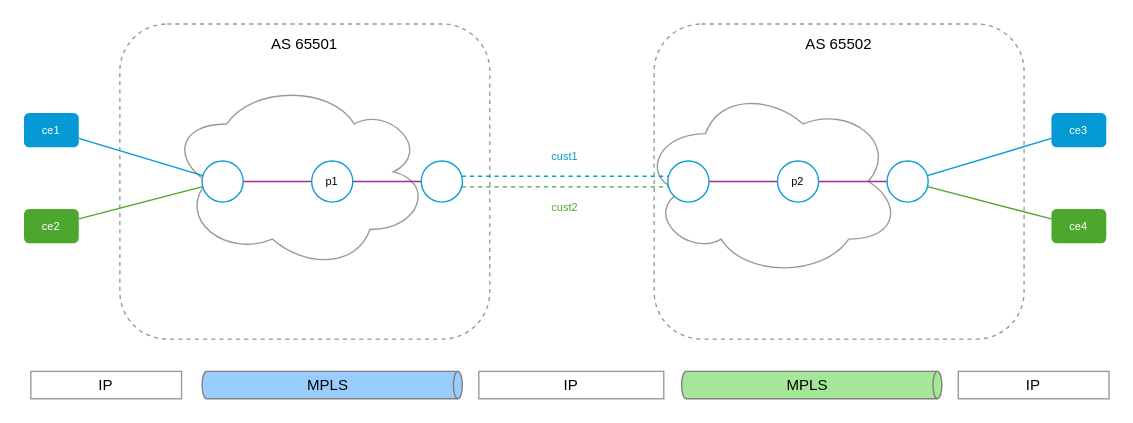
Some shapes in this 1133 by 423 pixel diagram are drawn without their labels. Here are the shapes that lost their labels. From the top down, the centre of each, then its label:
At pixel 222 181: "pe1".
At pixel 441 181: "asbr1".
At pixel 688 181: "asbr2".
At pixel 907 181: "pe2".
